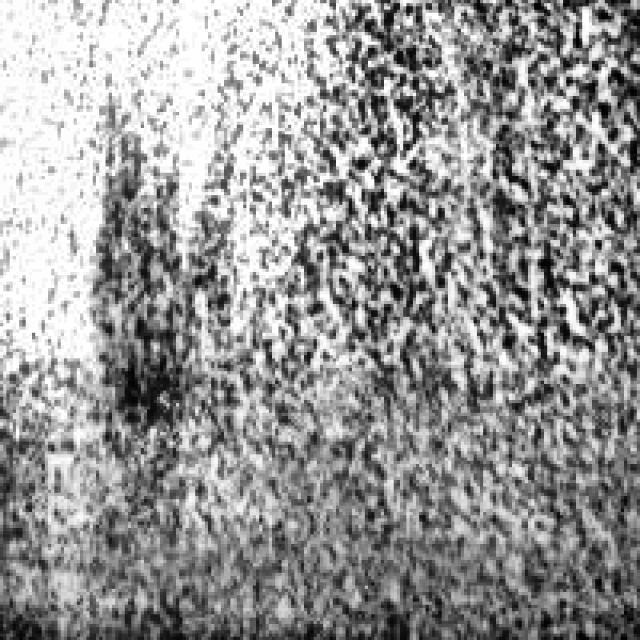Rolled_in_Scale: (92, 0, 634, 368)
